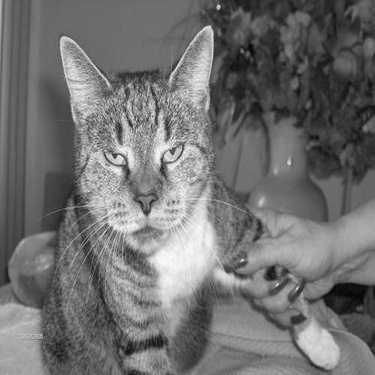cat: (22, 18, 348, 373)
